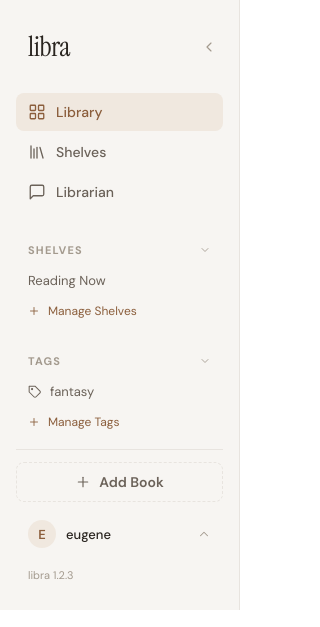
Scenario: Sidebar, collapsed › drops the lists and the version line
Expected: the link "Reading Now" is shown, [28, 272, 106, 289]
Click the button named "Collapse sidebar": (209, 46) [195, 32, 223, 60]
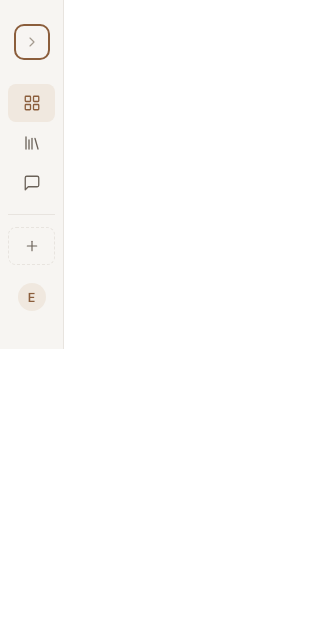
Expected: the link "Reading Now" is gone
Expected: the link "fantasy" is gone
Expected: the text "libra 1.2.3" is gone
